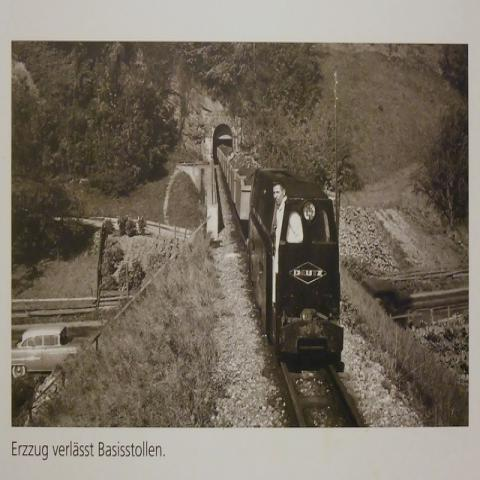car: (13, 325, 93, 377)
